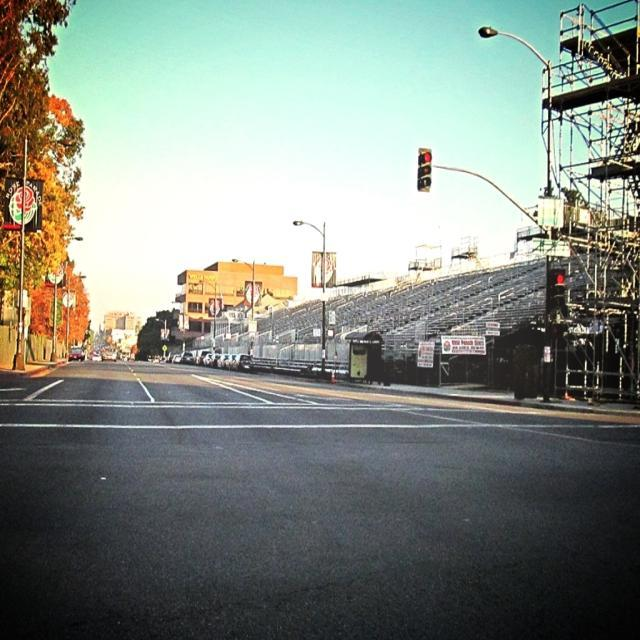traffic light: (417, 149, 434, 194), (552, 270, 566, 312)
